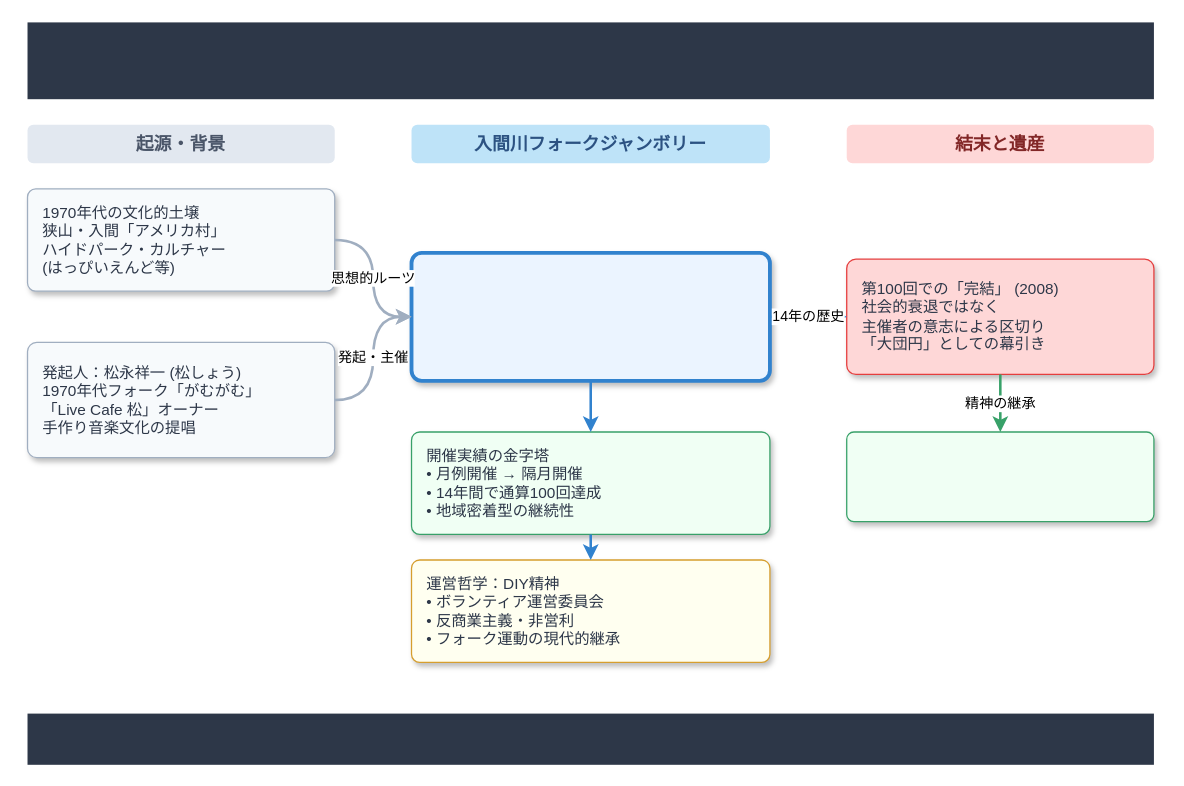
This 1184x786 diagram has some shape labels left out. Here are the shapes that lost their labels. From the top down, the centre of each, then its label:
[590,60]: 入間市フォークジャンボリーの歴史体系と文化的意義
[591,318]: 入間川フォークジャンボリー (1994年〜2008年) 会場：あたらしき野公園 野外ステージ
[1001,478]: 後継：入間サウンドヘヴン 文化と精神の継承 地域フェス文化への定着
[590,738]: Conclusion: 一個人の熱意から始まったイベントは、100回の継続を通じて地域固有の音楽文化遺産となった
